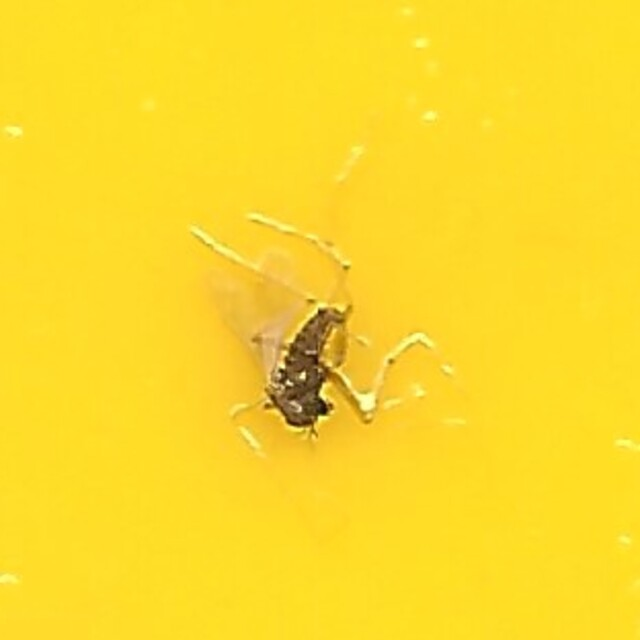Nematocera: (205, 198, 435, 442)
